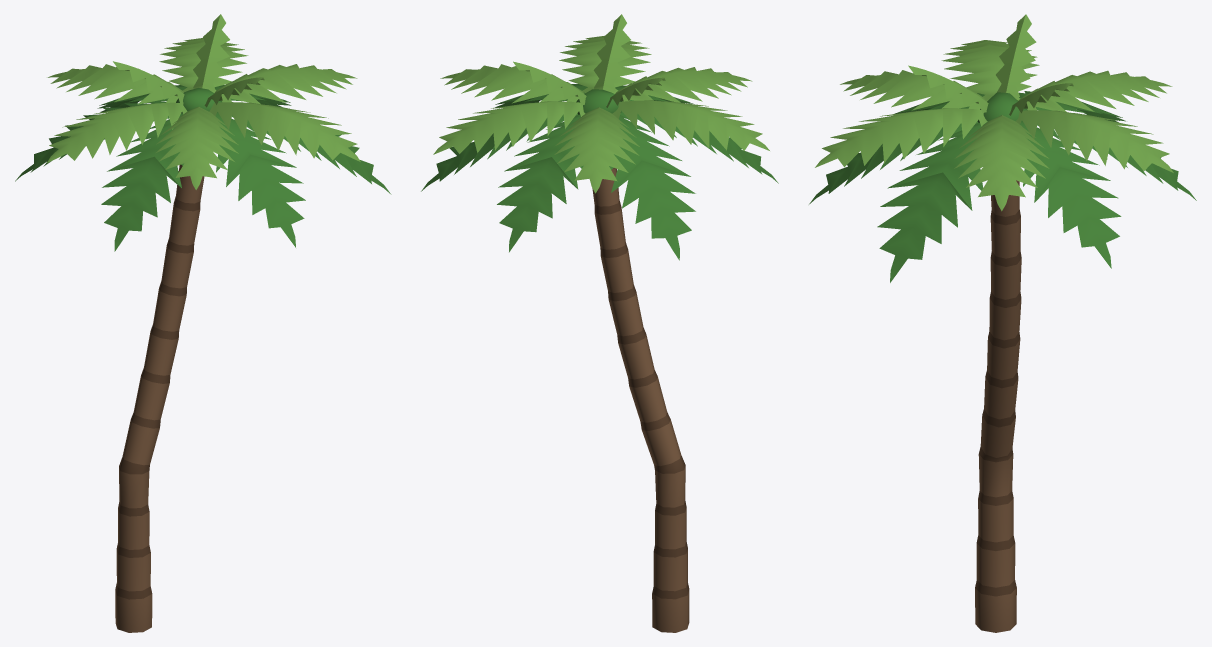
File: palm_a.glb
3 renders of one model, left to right at view 1: azimuth 30°, elevation 25°; view 2: azimuth 150°, elevation 25°; view 3: azimuth 270°, elevation 25°, orthographic. The views are drawn at different scales.
Visible parts, largest first — view 1: body; view 2: body; view 3: body.
Part boxes in pixels (x1,y1,x2,y2): body: [15, 14, 391, 632]; body: [421, 14, 778, 632]; body: [809, 14, 1196, 632].
Bounding box in the file's own units: 5.19 × 8.6 × 5.01.
